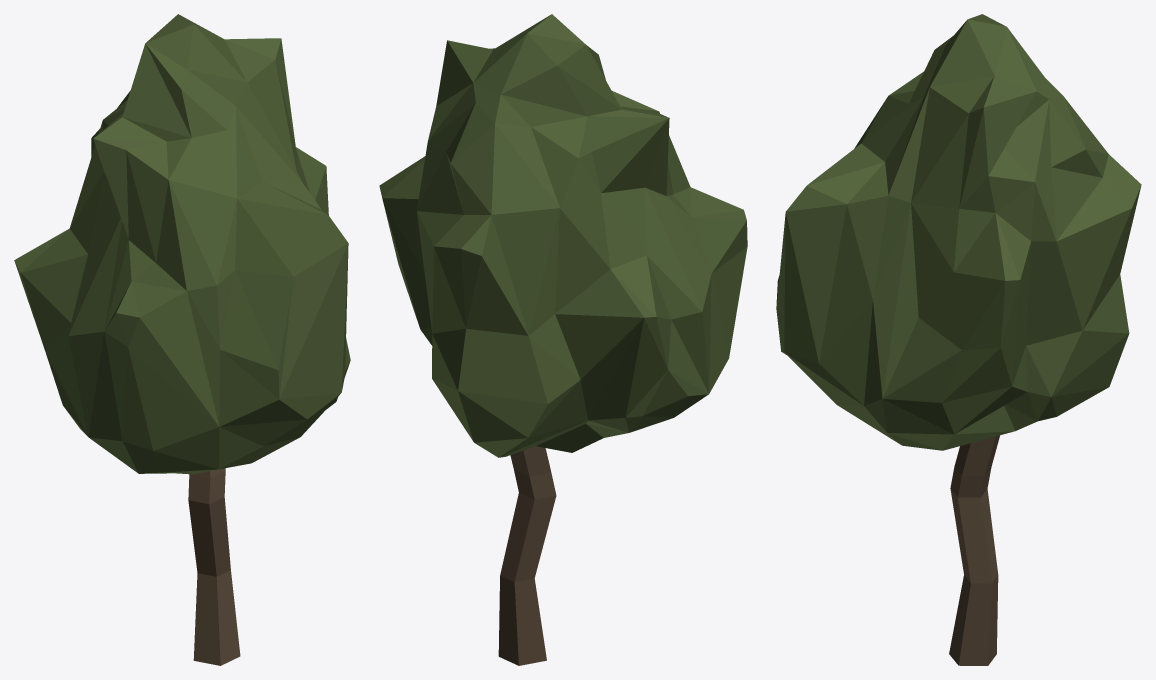
The model's file is Tree_34.gltf.
3 renders of one model, left to right at view 1: azimuth 30°, elevation 25°; view 2: azimuth 150°, elevation 25°; view 3: azimuth 270°, elevation 25°, orthographic. The views are drawn at different scales.
Parts seen in each view (by area): view 1: Tree_34; view 2: Tree_34; view 3: Tree_34.
Part boxes in pixels (x1,y1,x2,y2): Tree_34: [14, 14, 350, 665]; Tree_34: [379, 14, 747, 665]; Tree_34: [776, 14, 1141, 665].
Bounding box in the file's own units: 0.3391 × 0.7135 × 0.3771.
1 material, 1 textured.
